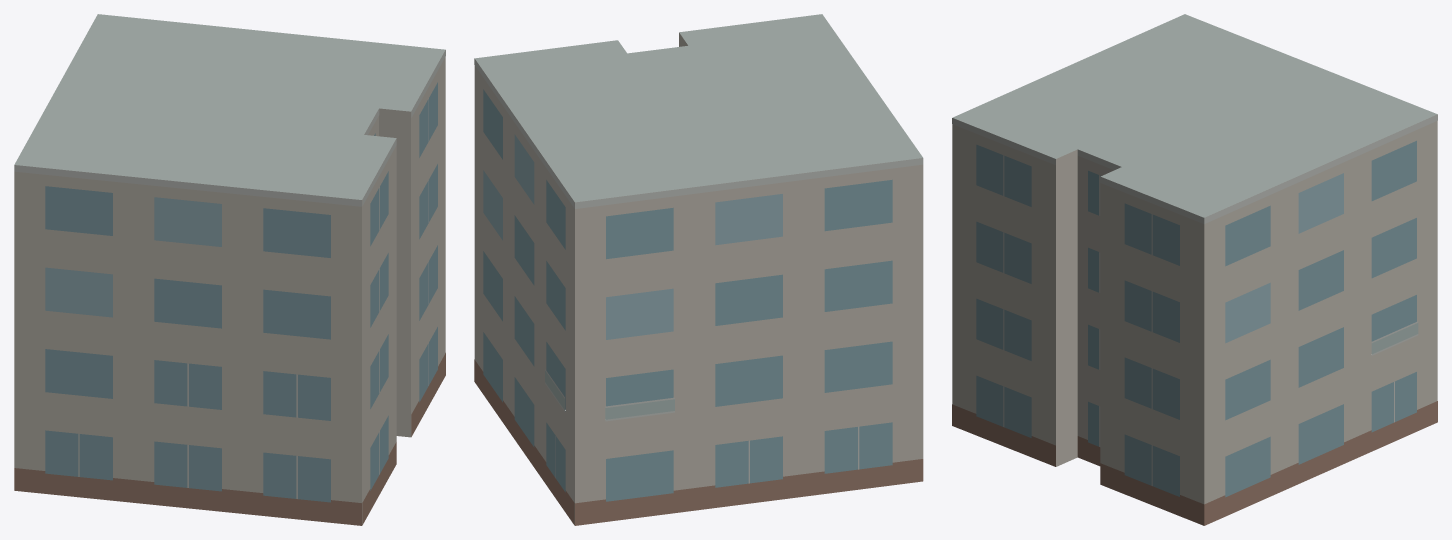
Rendered from survey-upis-32673874.glb.
3 renders of one model, left to right at view 1: azimuth 30°, elevation 25°; view 2: azimuth 150°, elevation 25°; view 3: azimuth 270°, elevation 25°, orthographic. The views are drawn at different scales.
Parts seen in each view (by area): view 1: survey-upis-32673874.tmp; view 2: survey-upis-32673874.tmp; view 3: survey-upis-32673874.tmp.
Part boxes in pixels (x1,y1,x2,y2): survey-upis-32673874.tmp: (14,14,445,525); survey-upis-32673874.tmp: (474,14,923,525); survey-upis-32673874.tmp: (952,14,1437,525).
Size of the model in its own units: 16.75 by 11.8 by 16.86.
